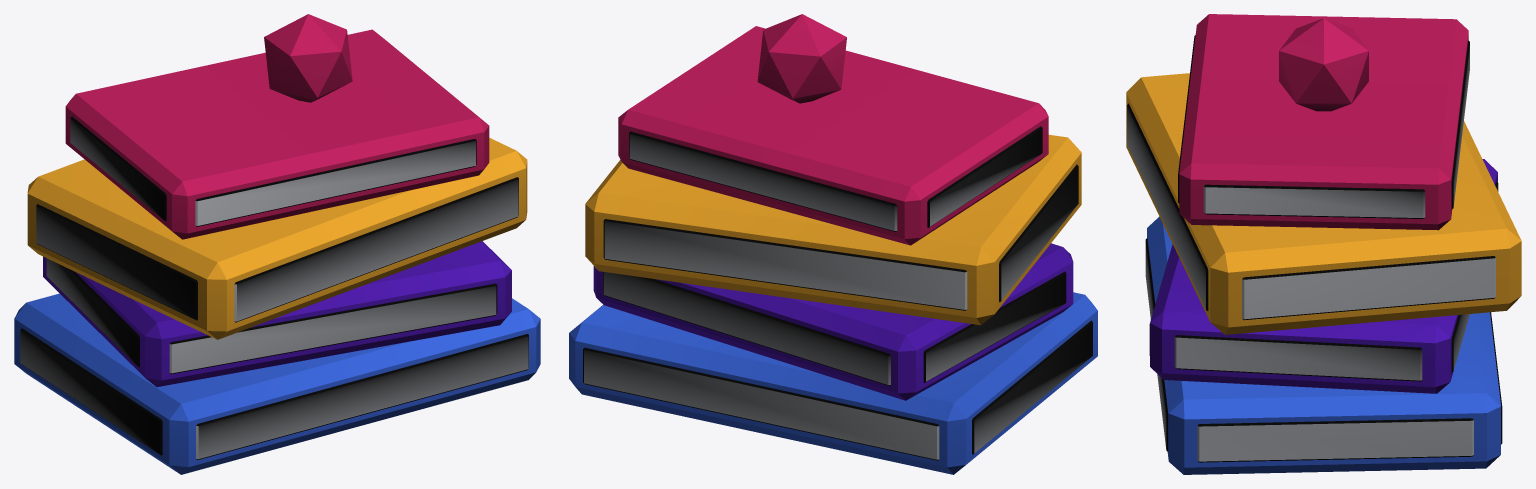
Rendered from obj-books.glb.
3 views of the same model, side by side, from view 1: azimuth 30°, elevation 25°; view 2: azimuth 150°, elevation 25°; view 3: azimuth 270°, elevation 25° (orthographic). The views are drawn at different scales.
Visible parts, largest first — view 1: Cube.131, Cube.128, Cube.122, Cube.125, Cube.123, Cube.129, Cube.126, Cube.132, Cube.130, Icosphere.020, Cube.124, Cube.127 (+1 smaller); view 2: Cube.131, Cube.128, Cube.122, Cube.129, Cube.125, Cube.123, Cube.126, Cube.132, Icosphere.020, Cube.127, Cube.124, Cube.130 (+1 smaller); view 3: Cube.131, Cube.128, Cube.122, Cube.125, Cube.130, Cube.124, Cube.127, Cube.133, Icosphere.020, Cube.129, Cube.132, Cube.123 (+1 smaller).
Boxes of the visible parts, x1,y1,x2,y2 form: Cube.131: (65, 29, 489, 239); Cube.128: (27, 138, 527, 339); Cube.122: (14, 293, 540, 474); Cube.125: (43, 241, 511, 386); Cube.123: (196, 334, 528, 460); Cube.129: (234, 177, 518, 322); Cube.126: (169, 283, 497, 374); Cube.132: (195, 139, 476, 226); Cube.130: (36, 204, 197, 320); Icosphere.020: (264, 14, 352, 102); Cube.124: (20, 328, 162, 455); Cube.127: (46, 258, 139, 367); Cube.131: (618, 26, 1048, 245); Cube.128: (585, 134, 1081, 325); Cube.122: (569, 292, 1097, 474); Cube.129: (603, 219, 967, 310); Cube.125: (593, 243, 1073, 400); Cube.123: (583, 347, 939, 460); Cube.126: (603, 272, 890, 385); Cube.132: (629, 131, 897, 231); Icosphere.020: (757, 14, 846, 103); Cube.127: (923, 271, 1066, 382); Cube.124: (972, 320, 1092, 454); Cube.130: (999, 164, 1078, 302); Cube.131: (1179, 14, 1468, 230); Cube.128: (1126, 73, 1521, 334); Cube.122: (1147, 216, 1500, 474); Cube.125: (1150, 159, 1497, 393); Cube.130: (1242, 256, 1495, 320); Cube.124: (1197, 418, 1473, 462); Cube.127: (1174, 335, 1422, 381); Cube.133: (1203, 184, 1425, 218); Icosphere.020: (1279, 18, 1368, 111); Cube.129: (1127, 103, 1208, 310); Cube.132: (1178, 35, 1469, 209); Cube.123: (1145, 238, 1502, 451).
Bounding box in the file's own units: 0.6635 × 0.55 × 0.5229.
